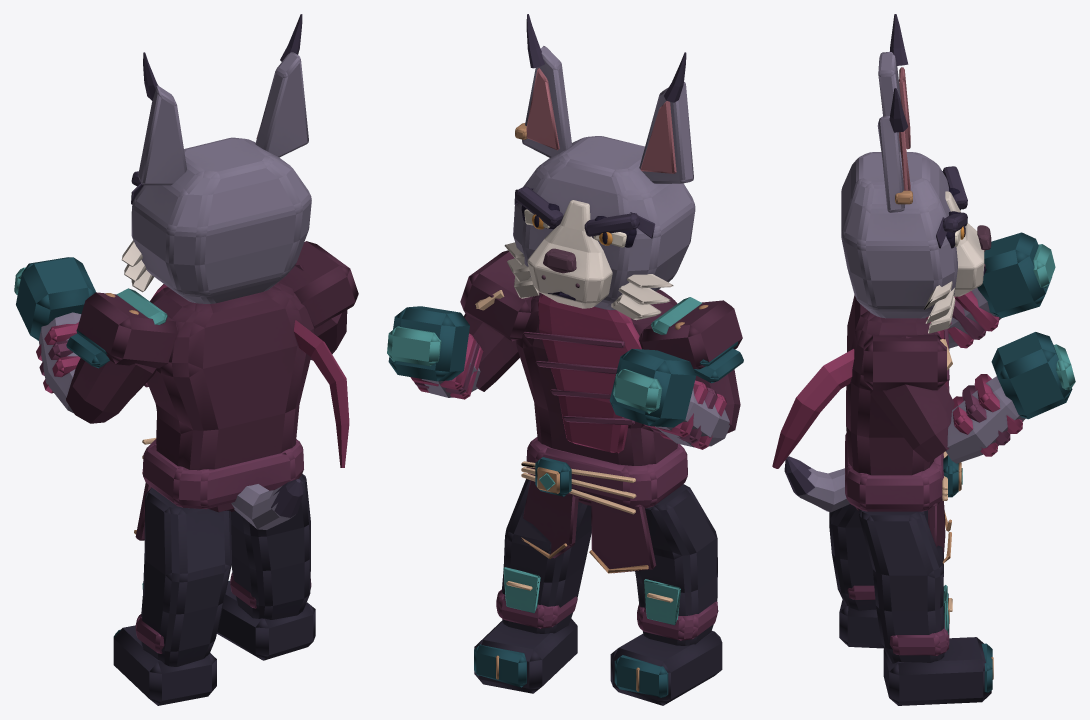
File: Sablecrest_Lynx.glb
3 renders of one model, left to right at view 1: azimuth 30°, elevation 25°; view 2: azimuth 150°, elevation 25°; view 3: azimuth 270°, elevation 25°, orthographic. The views are drawn at different scales.
Parts seen in each view (by area): view 1: Torso_Shell, Head_Shell, Left_Leg_Shell, Left_Arm_Shell, Right_Leg_Shell, Right_Arm_Shell, Tail_Shell; view 2: Head_Shell, Torso_Shell, Left_Leg_Shell, Left_Arm_Shell, Right_Leg_Shell, Right_Arm_Shell; view 3: Head_Shell, Right_Arm_Shell, Right_Leg_Shell, Torso_Shell, Left_Arm_Shell, Left_Leg_Shell, Tail_Shell.
Boxes of the visible parts, x1=… form: Torso_Shell: x1=134, y1=280, x2=349, y2=540; Head_Shell: x1=121, y1=14, x2=311, y2=303; Left_Leg_Shell: x1=113, y1=487, x2=231, y2=705; Left_Arm_Shell: x1=14, y1=257, x2=178, y2=423; Right_Leg_Shell: x1=217, y1=474, x2=315, y2=660; Right_Arm_Shell: x1=281, y1=241, x2=358, y2=360; Tail_Shell: x1=231, y1=479, x2=303, y2=529; Head_Shell: x1=504, y1=14, x2=695, y2=320; Torso_Shell: x1=516, y1=289, x2=687, y2=573; Left_Leg_Shell: x1=610, y1=484, x2=722, y2=705; Left_Arm_Shell: x1=609, y1=297, x2=743, y2=449; Right_Leg_Shell: x1=474, y1=478, x2=591, y2=693; Right_Arm_Shell: x1=387, y1=250, x2=532, y2=399; Head_Shell: x1=841, y1=14, x2=991, y2=333; Right_Arm_Shell: x1=863, y1=332, x2=1075, y2=463; Right_Leg_Shell: x1=858, y1=509, x2=993, y2=705; Torso_Shell: x1=772, y1=295, x2=962, y2=563; Left_Arm_Shell: x1=948, y1=232, x2=1055, y2=348; Left_Leg_Shell: x1=829, y1=504, x2=949, y2=648; Tail_Shell: x1=784, y1=456, x2=849, y2=512.
Bounding box in the file's own units: 2.54 × 5.38 × 2.41.
Materials: 1 (1 with a texture image).
